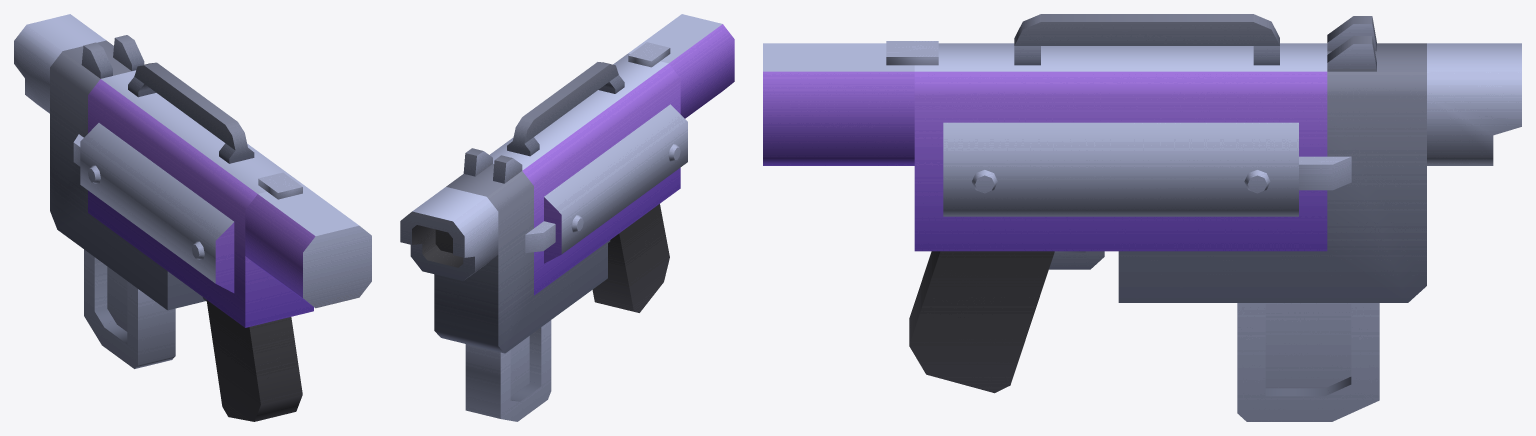
File: blaster-a.glb
3 views of the same model, side by side, from view 1: azimuth 30°, elevation 25°; view 2: azimuth 150°, elevation 25°; view 3: azimuth 270°, elevation 25° (orthographic). The views are drawn at different scales.
Parts seen in each view (by area): view 1: blaster-a, magazine; view 2: blaster-a, magazine; view 3: blaster-a, magazine.
Boxes of the visible parts, left/top/right/bottom form: blaster-a: left=14, top=14, right=371, bottom=421; magazine: left=84, top=249, right=175, bottom=368; blaster-a: left=400, top=14, right=734, bottom=353; magazine: left=465, top=320, right=551, bottom=421; blaster-a: left=763, top=14, right=1521, bottom=393; magazine: left=1237, top=303, right=1379, bottom=421.
Size of the model in its own units: 0.1838 by 0.4559 by 0.8.
1 material, 1 textured.
